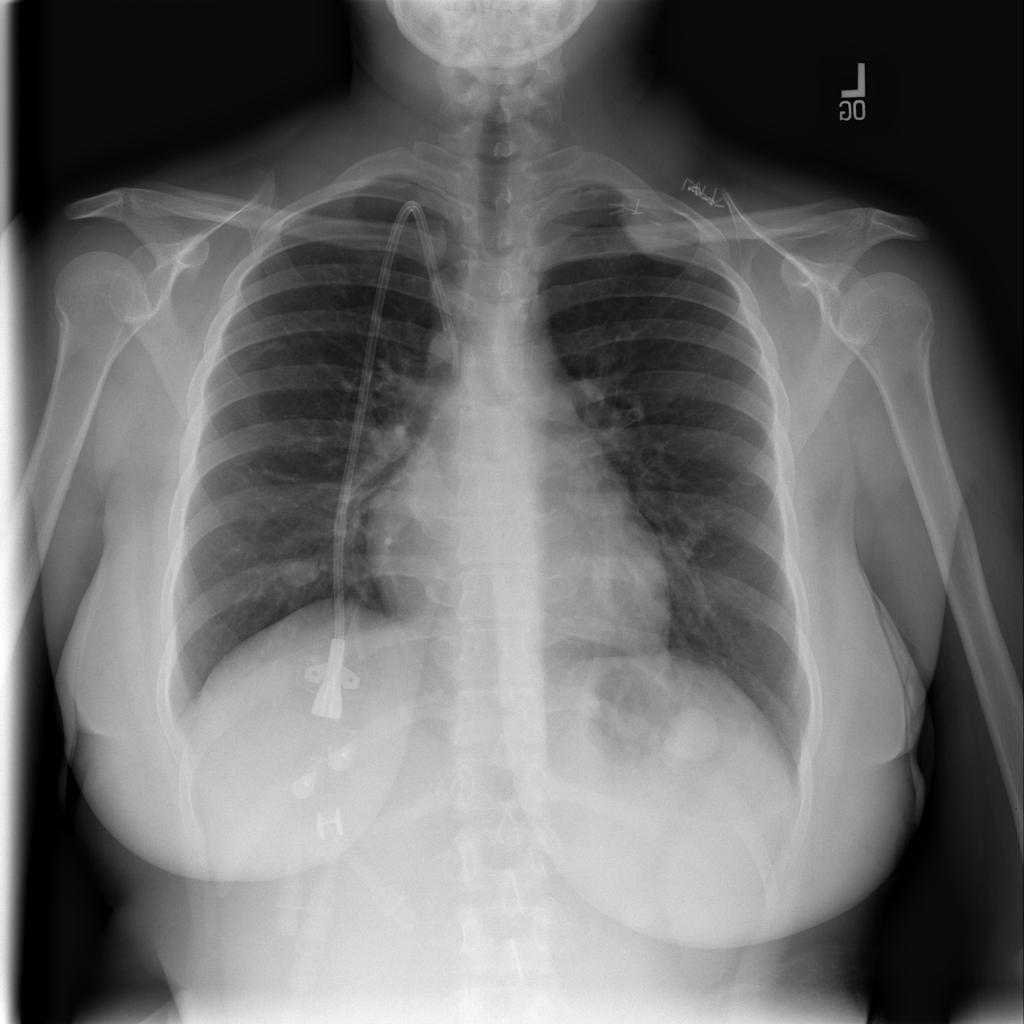nodule: (654, 695, 730, 773), (270, 546, 325, 595)
